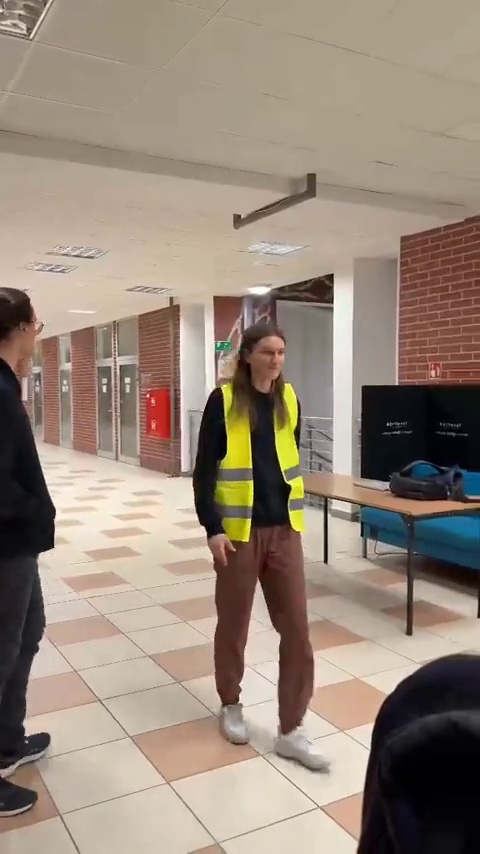no vest: (0, 289, 59, 818)
vest: (186, 319, 331, 770)
